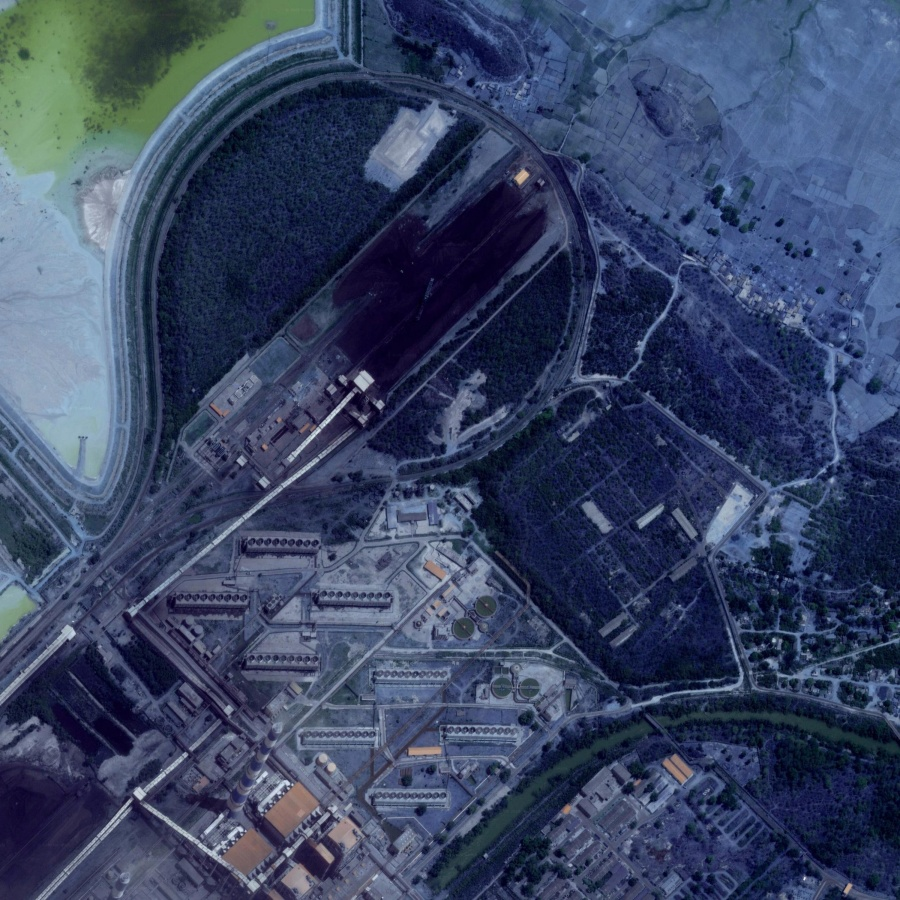PowerPlant: (286, 149, 565, 430)
